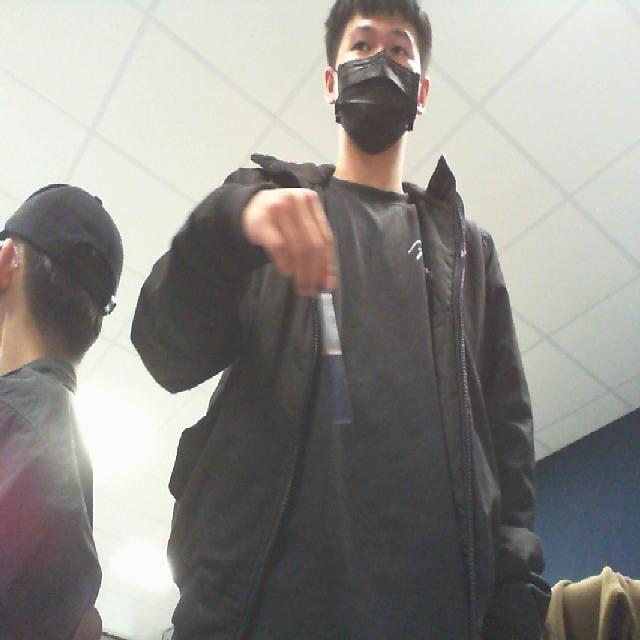Pen: (299, 268, 364, 456)
